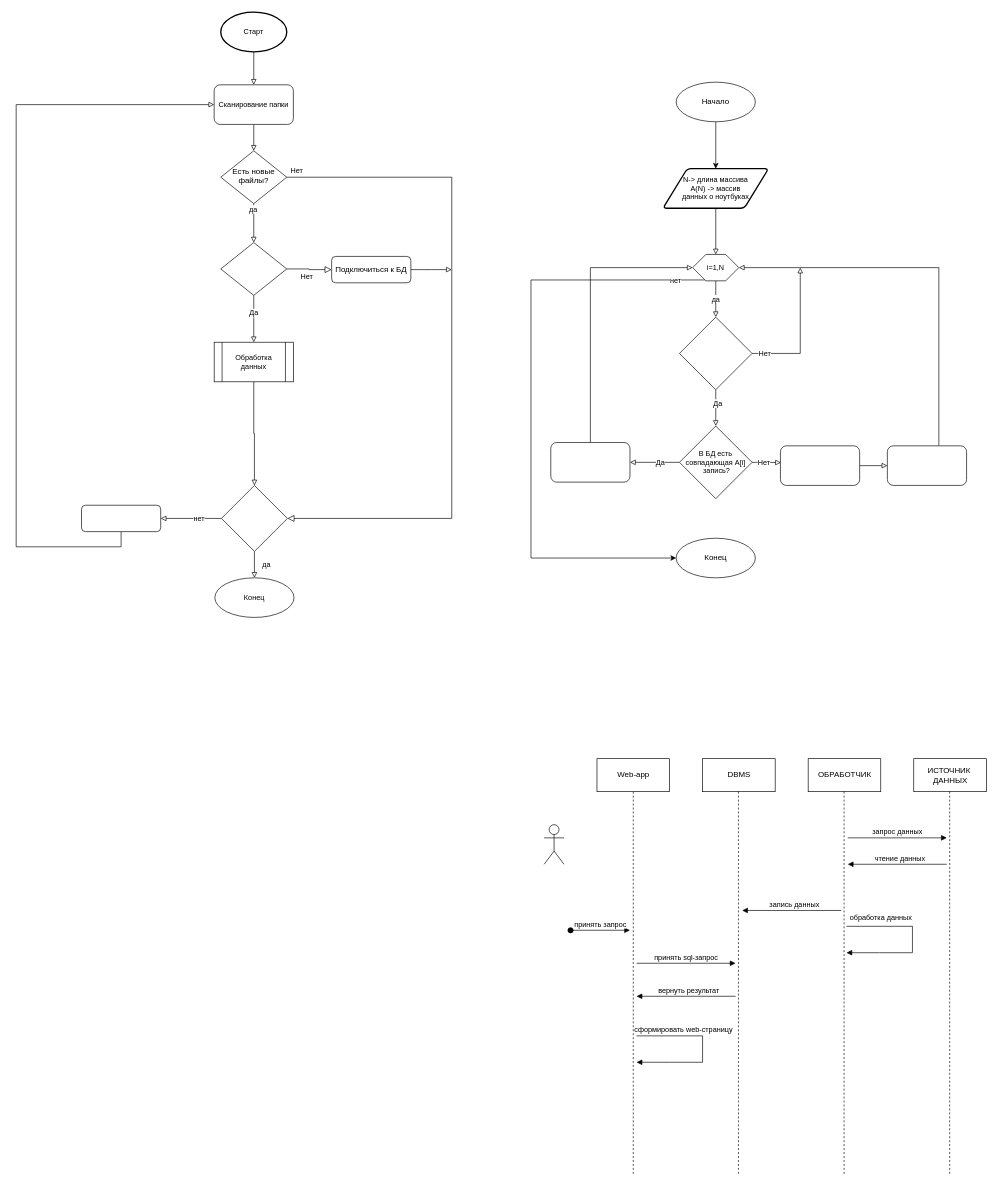
Image size: 998x1187. Some labels were removed from this diagram. Each missing label, with the centre of its shape:
"A[i] удовлетворяет условиям?" goes at [715,353].
"Добавляем в БД" goes at [927,465].
"Есть подключение к БД?" goes at [253,268].
"Обновляем цену в БД" goes at [590,462].
"Пользователь" goes at [554,844].
"Сигнал завершения?" goes at [254,518].
"Считаем Индекс производительности" goes at [820,465].
"Таймаут" goes at [121,518].
